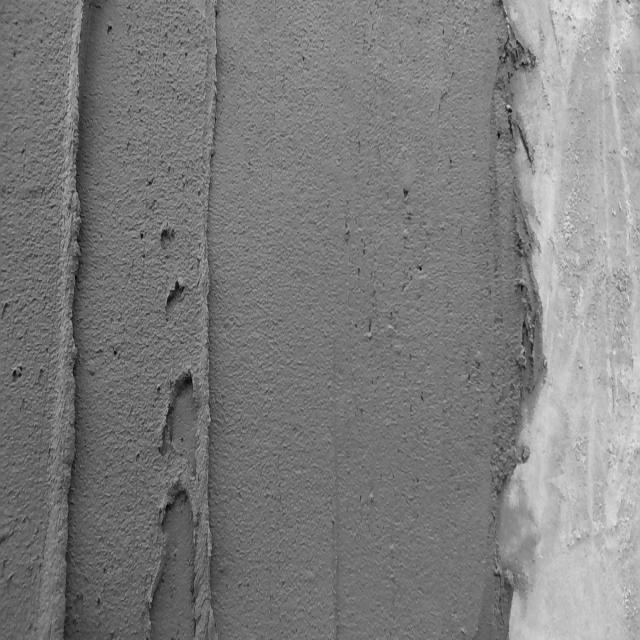trowels marks: (44, 1, 94, 640), (197, 6, 226, 640)
